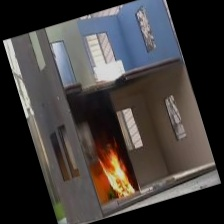fire: (93, 138, 137, 203)
